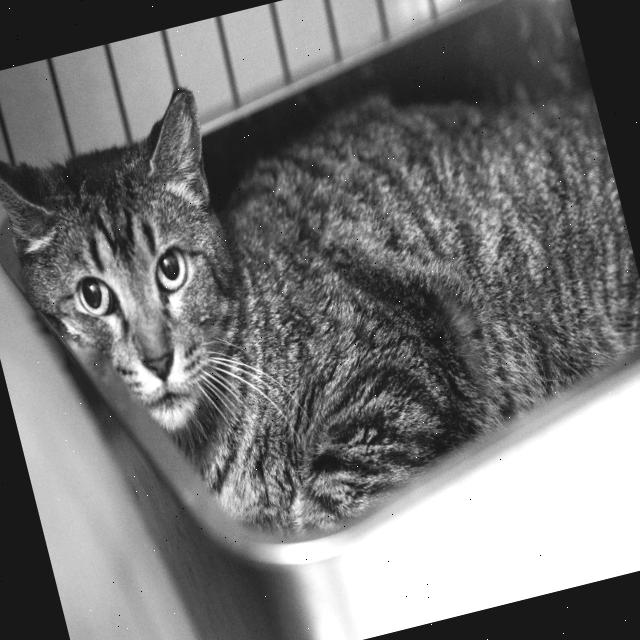american_shorthair_cat: (0, 72, 278, 477)
